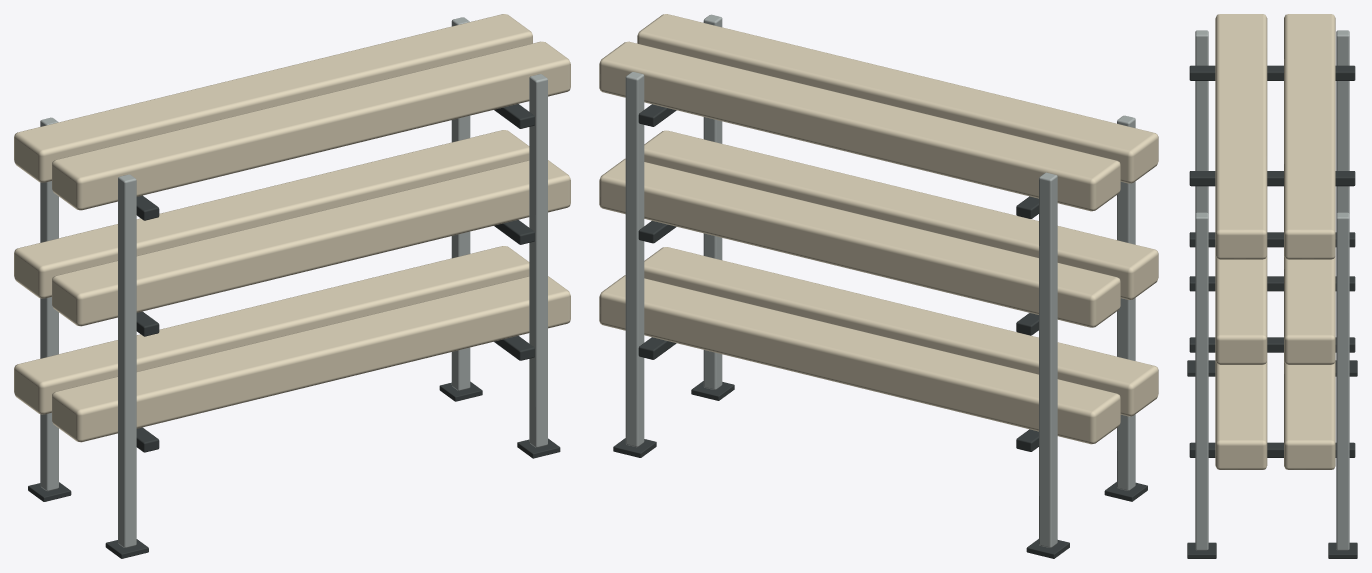
File: canal-boats-and-lock-operations-canal-boats-and-lock-o-607770e8__31657.glb
The picture shows the model from 3 angles, left to right: view 1: azimuth 30°, elevation 25°; view 2: azimuth 150°, elevation 25°; view 3: azimuth 270°, elevation 25°; orthographic projection. The views are drawn at different scales.
Parts seen in each view (by area): view 1: canal-boats-and-lock-operations-stop-plank-rack; view 2: canal-boats-and-lock-operations-stop-plank-rack; view 3: canal-boats-and-lock-operations-stop-plank-rack.
Part boxes in pixels (x1=…): canal-boats-and-lock-operations-stop-plank-rack: x1=14, y1=14, x2=570, y2=558; canal-boats-and-lock-operations-stop-plank-rack: x1=599, y1=14, x2=1158, y2=558; canal-boats-and-lock-operations-stop-plank-rack: x1=1187, y1=14, x2=1357, y2=558.
Bounding box in the file's own units: 2.5 × 1.81 × 0.8201.
